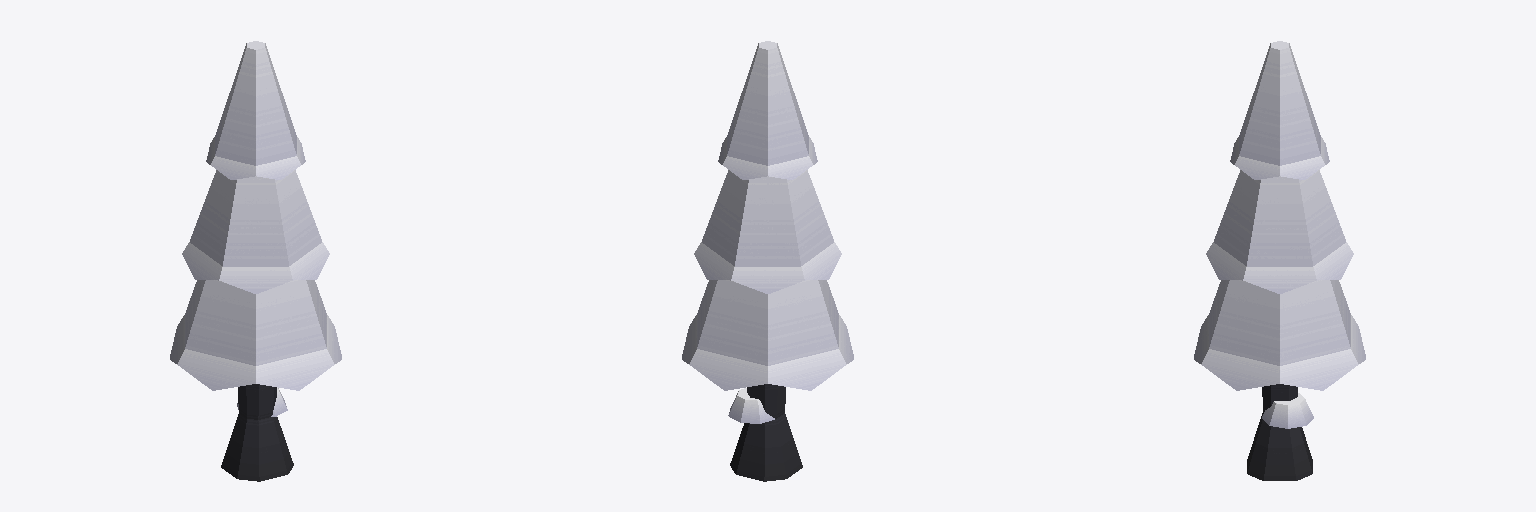
3 views of the same model, side by side, from view 1: azimuth 30°, elevation 25°; view 2: azimuth 150°, elevation 25°; view 3: azimuth 270°, elevation 25° (orthographic).
Visible parts, largest first — view 1: tree.012; view 2: tree.012; view 3: tree.012.
Part boxes in pixels (bbox=[...]): tree.012: bbox=[170, 41, 341, 481]; tree.012: bbox=[682, 41, 853, 481]; tree.012: bbox=[1194, 41, 1365, 480].
Size of the model in its own units: 1.36 by 3.47 by 1.3.
1 materials, 1 textured.